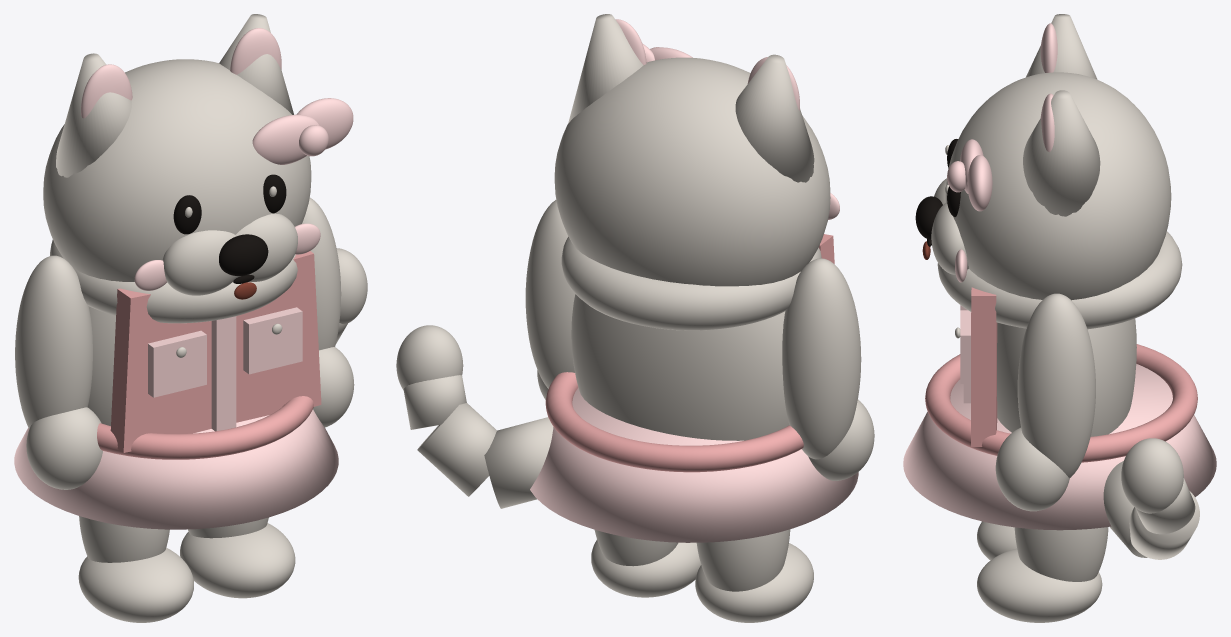
Rendered from cat_model.glb.
The picture shows the model from 3 angles, left to right: view 1: azimuth 30°, elevation 25°; view 2: azimuth 150°, elevation 25°; view 3: azimuth 270°, elevation 25°; orthographic projection. The views are drawn at different scales.
Visible parts, largest first — view 1: Head_Fur, Skirt, Arm_L, Vest_Left, Vest_Right, Foot_L, Foot_R, Plush_Collar, Skirt_Waist, Hand_L, Ear_L, Muzzle_L (+21 smaller); view 2: Head_Fur, Skirt, Body_Fur, Arm_L, Plush_Collar, Skirt_Waist, Arm_R, Ear_L, Foot_L, Tail_00, Tail_01, Leg_L (+6 smaller); view 3: Head_Fur, Skirt, Arm_R, Skirt_Waist, Body_Fur, Plush_Collar, Ear_R, Foot_R, Leg_R, Hand_R, Vest_Right, TailTip (+13 smaller).
Boxes of the visible parts, x1,y1,x2,y2 form: Head_Fur: (43,59,311,281); Skirt: (14,409,338,529); Arm_L: (15,255,92,428); Vest_Left: (110,288,211,452); Vest_Right: (236,251,321,422); Foot_L: (78,547,193,622); Foot_R: (180,523,295,598); Plush_Collar: (50,239,297,323); Skirt_Waist: (97,396,313,459); Hand_L: (26,407,102,489); Ear_L: (56,53,131,177); Muzzle_L: (162,230,237,295); Head_Fur: (554,57,830,286); Skirt: (530,387,858,542); Body_Fur: (571,294,789,440); Arm_L: (782,258,861,459); Plush_Collar: (561,236,821,330); Skirt_Waist: (545,372,803,472); Arm_R: (525,200,575,388); Ear_L: (735,54,814,182); Foot_L: (695,543,813,622); Tail_00: (484,417,553,508); Tail_01: (417,403,496,496); Leg_L: (696,529,790,591); Head_Fur: (945,72,1171,300); Skirt: (903,364,1216,530); Arm_R: (1017,293,1095,478); Skirt_Waist: (925,344,1197,462); Body_Fur: (997,318,1136,436); Plush_Collar: (937,231,1182,329); Ear_R: (1023,90,1100,216); Foot_R: (977,548,1102,622); Leg_R: (1014,527,1108,581); Hand_R: (995,427,1069,511); Vest_Right: (971,287,997,446); TailTip: (1121,438,1183,513).
Size of what is drawn, in the model's own units: 2.8 by 3.78 by 2.
